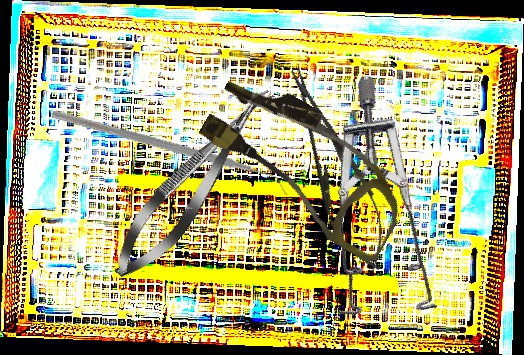Cannula: (184, 63, 427, 266)
Chopper: (49, 55, 289, 253)
Micro Scissor: (99, 74, 288, 291)
Needle Holder: (272, 59, 401, 280)
Speculum: (261, 72, 517, 351)
